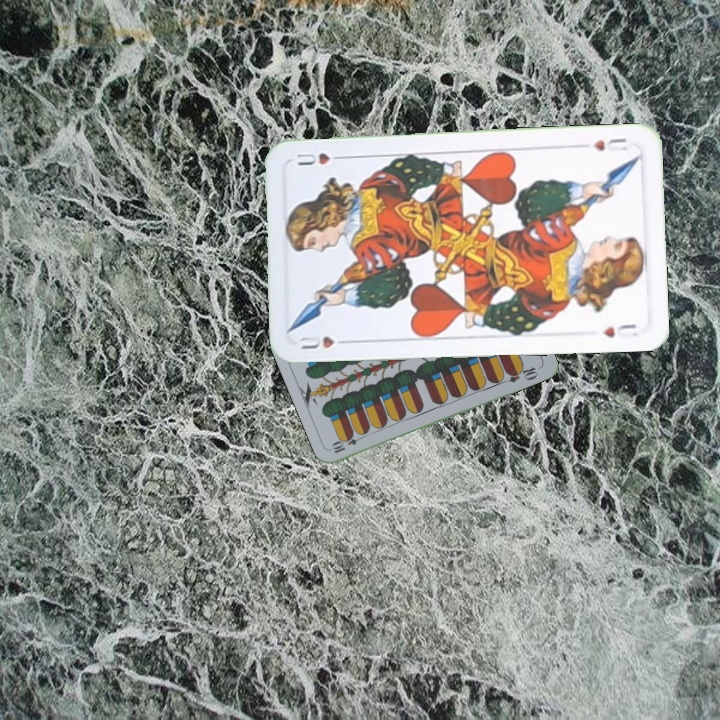E10: (328, 430, 367, 456)
HU: (295, 332, 353, 352), (589, 133, 631, 154)
